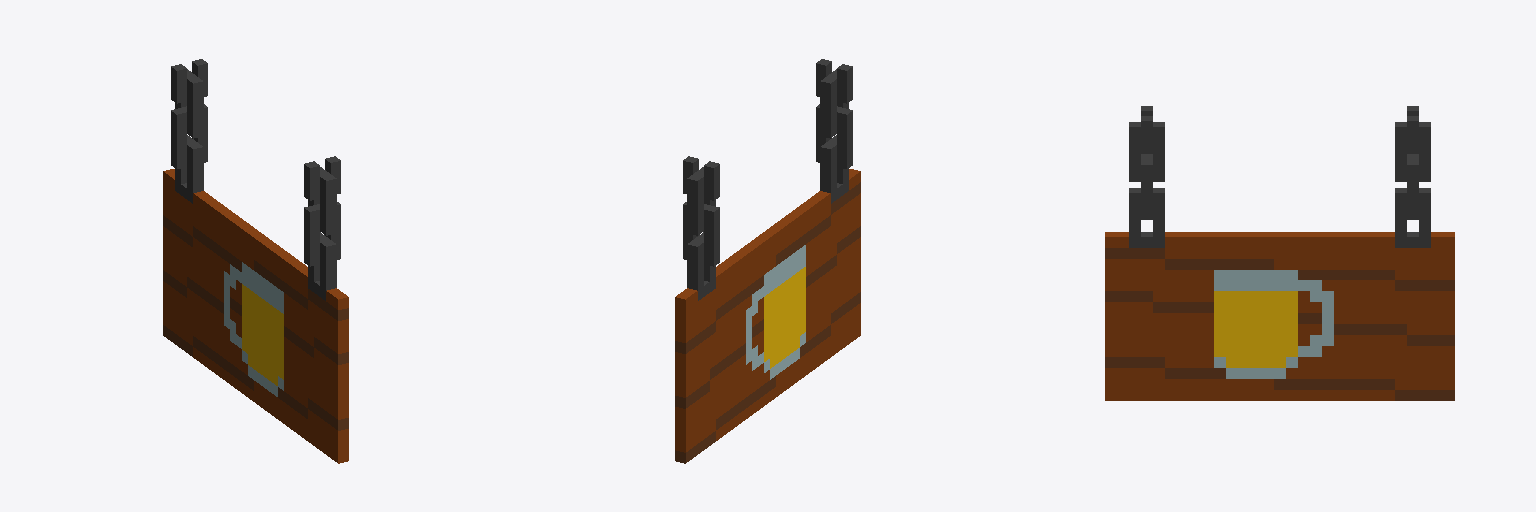
3 renders of one model, left to right at view 1: azimuth 30°, elevation 25°; view 2: azimuth 150°, elevation 25°; view 3: azimuth 270°, elevation 25°, orthographic.
Visible parts, largest first — view 1: object 1; view 2: object 1; view 3: object 1.
Part boxes in pixels (bbox=[...]): object 1: bbox=[163, 59, 348, 463]; object 1: bbox=[675, 59, 860, 463]; object 1: bbox=[1105, 106, 1454, 400].
Bounding box in the file's own units: 0.3 × 2.6 × 2.9.
Materials: 1 (1 with a texture image).